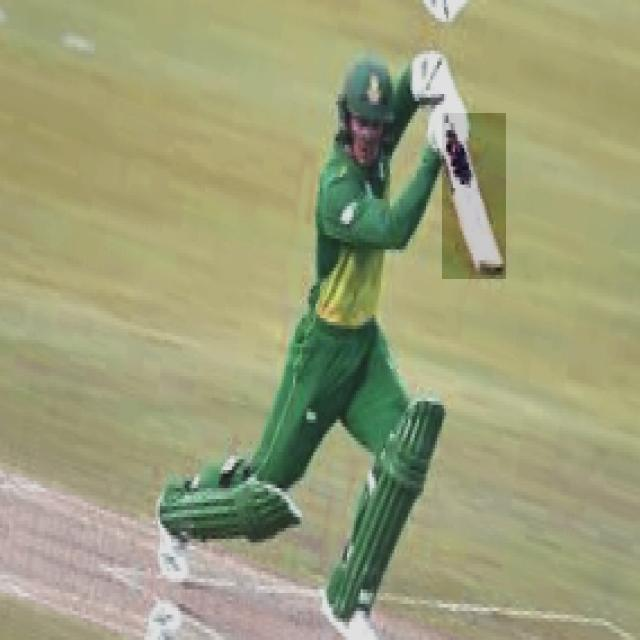bat: (445, 113, 506, 280)
toe: (476, 260, 507, 276)
